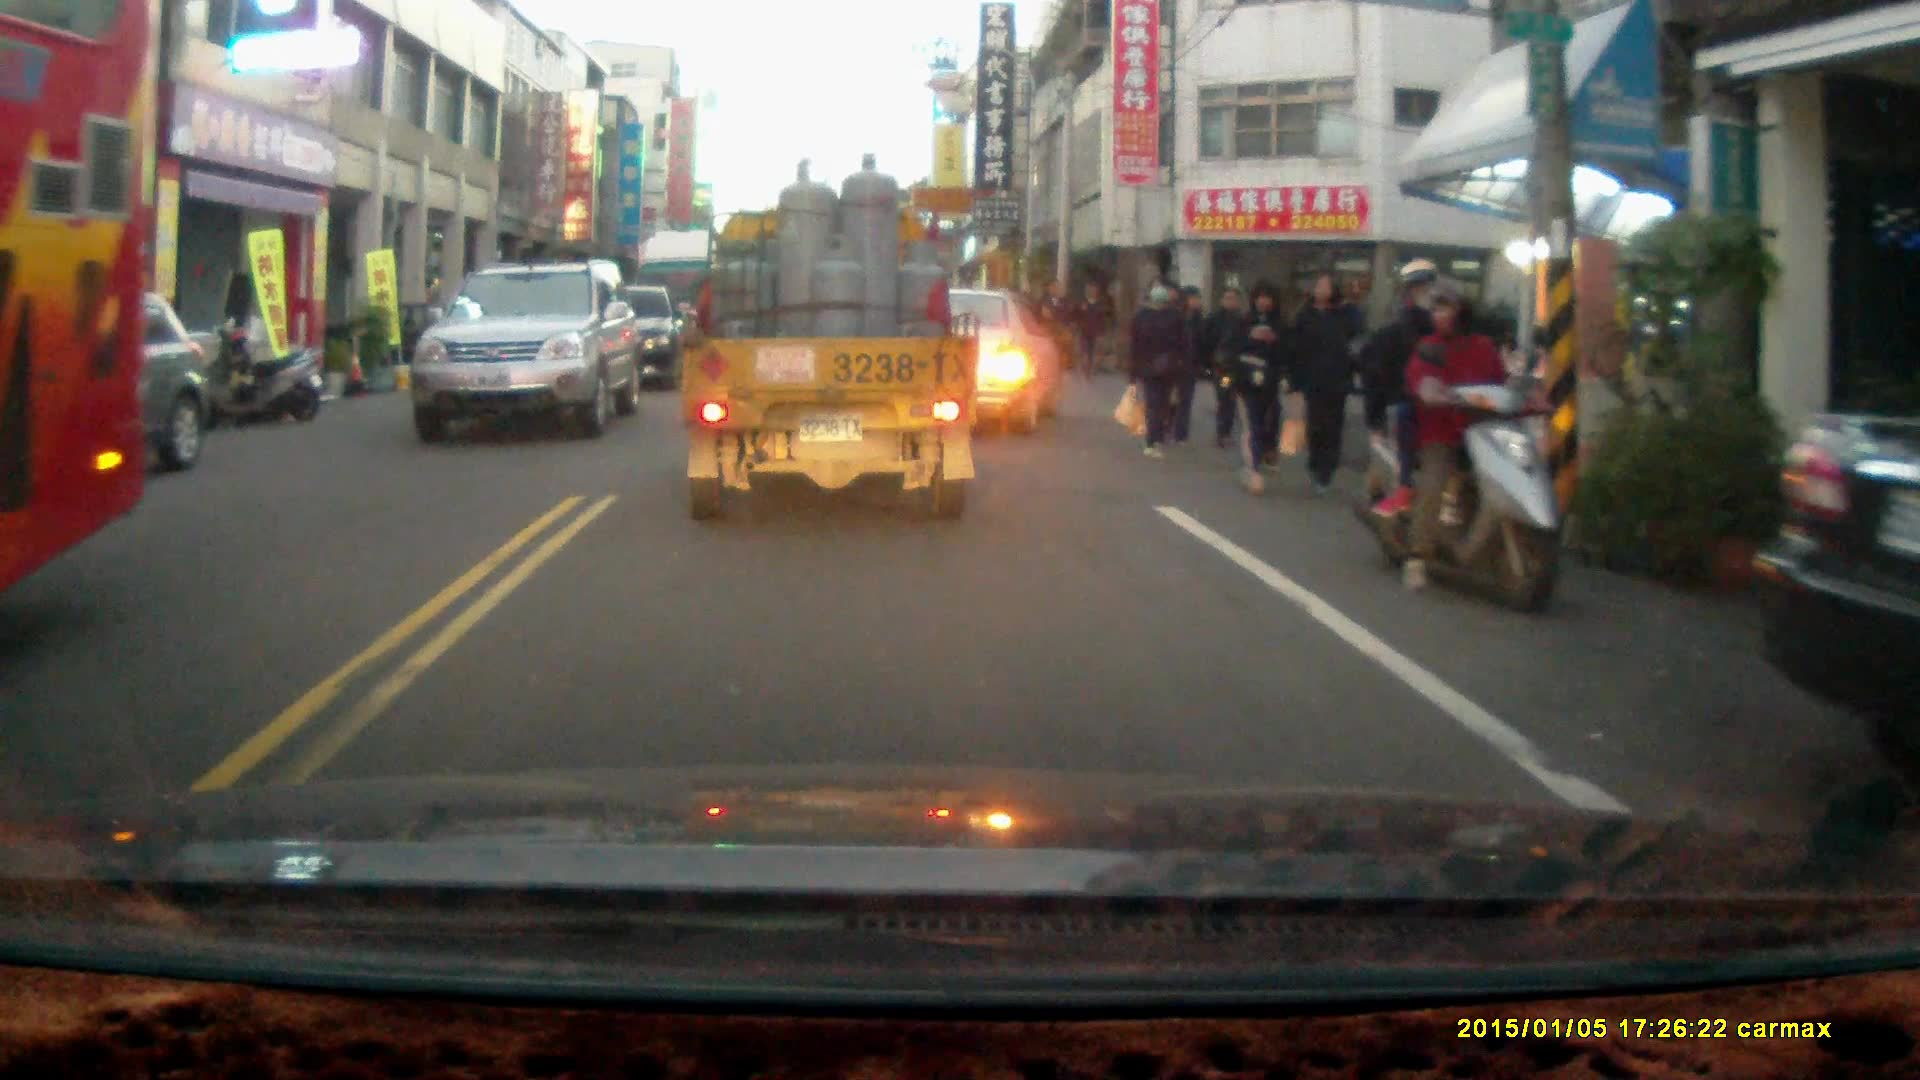pedestrian: (1280, 275, 1366, 494), (1222, 276, 1290, 491), (1124, 275, 1185, 459), (1197, 282, 1259, 443), (1161, 285, 1210, 446), (1036, 279, 1074, 384), (1071, 280, 1107, 386)
rider: (1343, 256, 1562, 608)
vehicle: (676, 148, 980, 524), (1, 7, 156, 586), (1754, 397, 1920, 756), (414, 262, 646, 444), (23, 283, 215, 472), (832, 286, 1068, 439)
